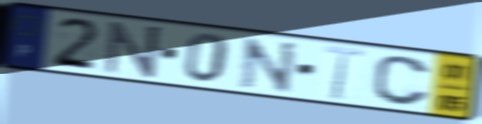0: (181, 31, 230, 85)
2: (48, 16, 105, 73)
C: (371, 54, 432, 108)
N: (239, 36, 301, 96), (103, 19, 165, 79)
T: (323, 43, 366, 102)
